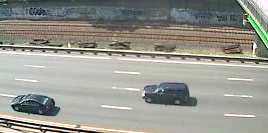car: (140, 80, 193, 108), (9, 93, 58, 117)
